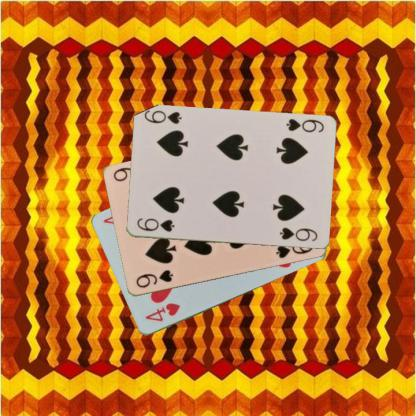4h: (142, 300, 182, 323)
6s: (134, 216, 176, 234), (283, 116, 325, 134)
9s: (133, 268, 174, 290)
